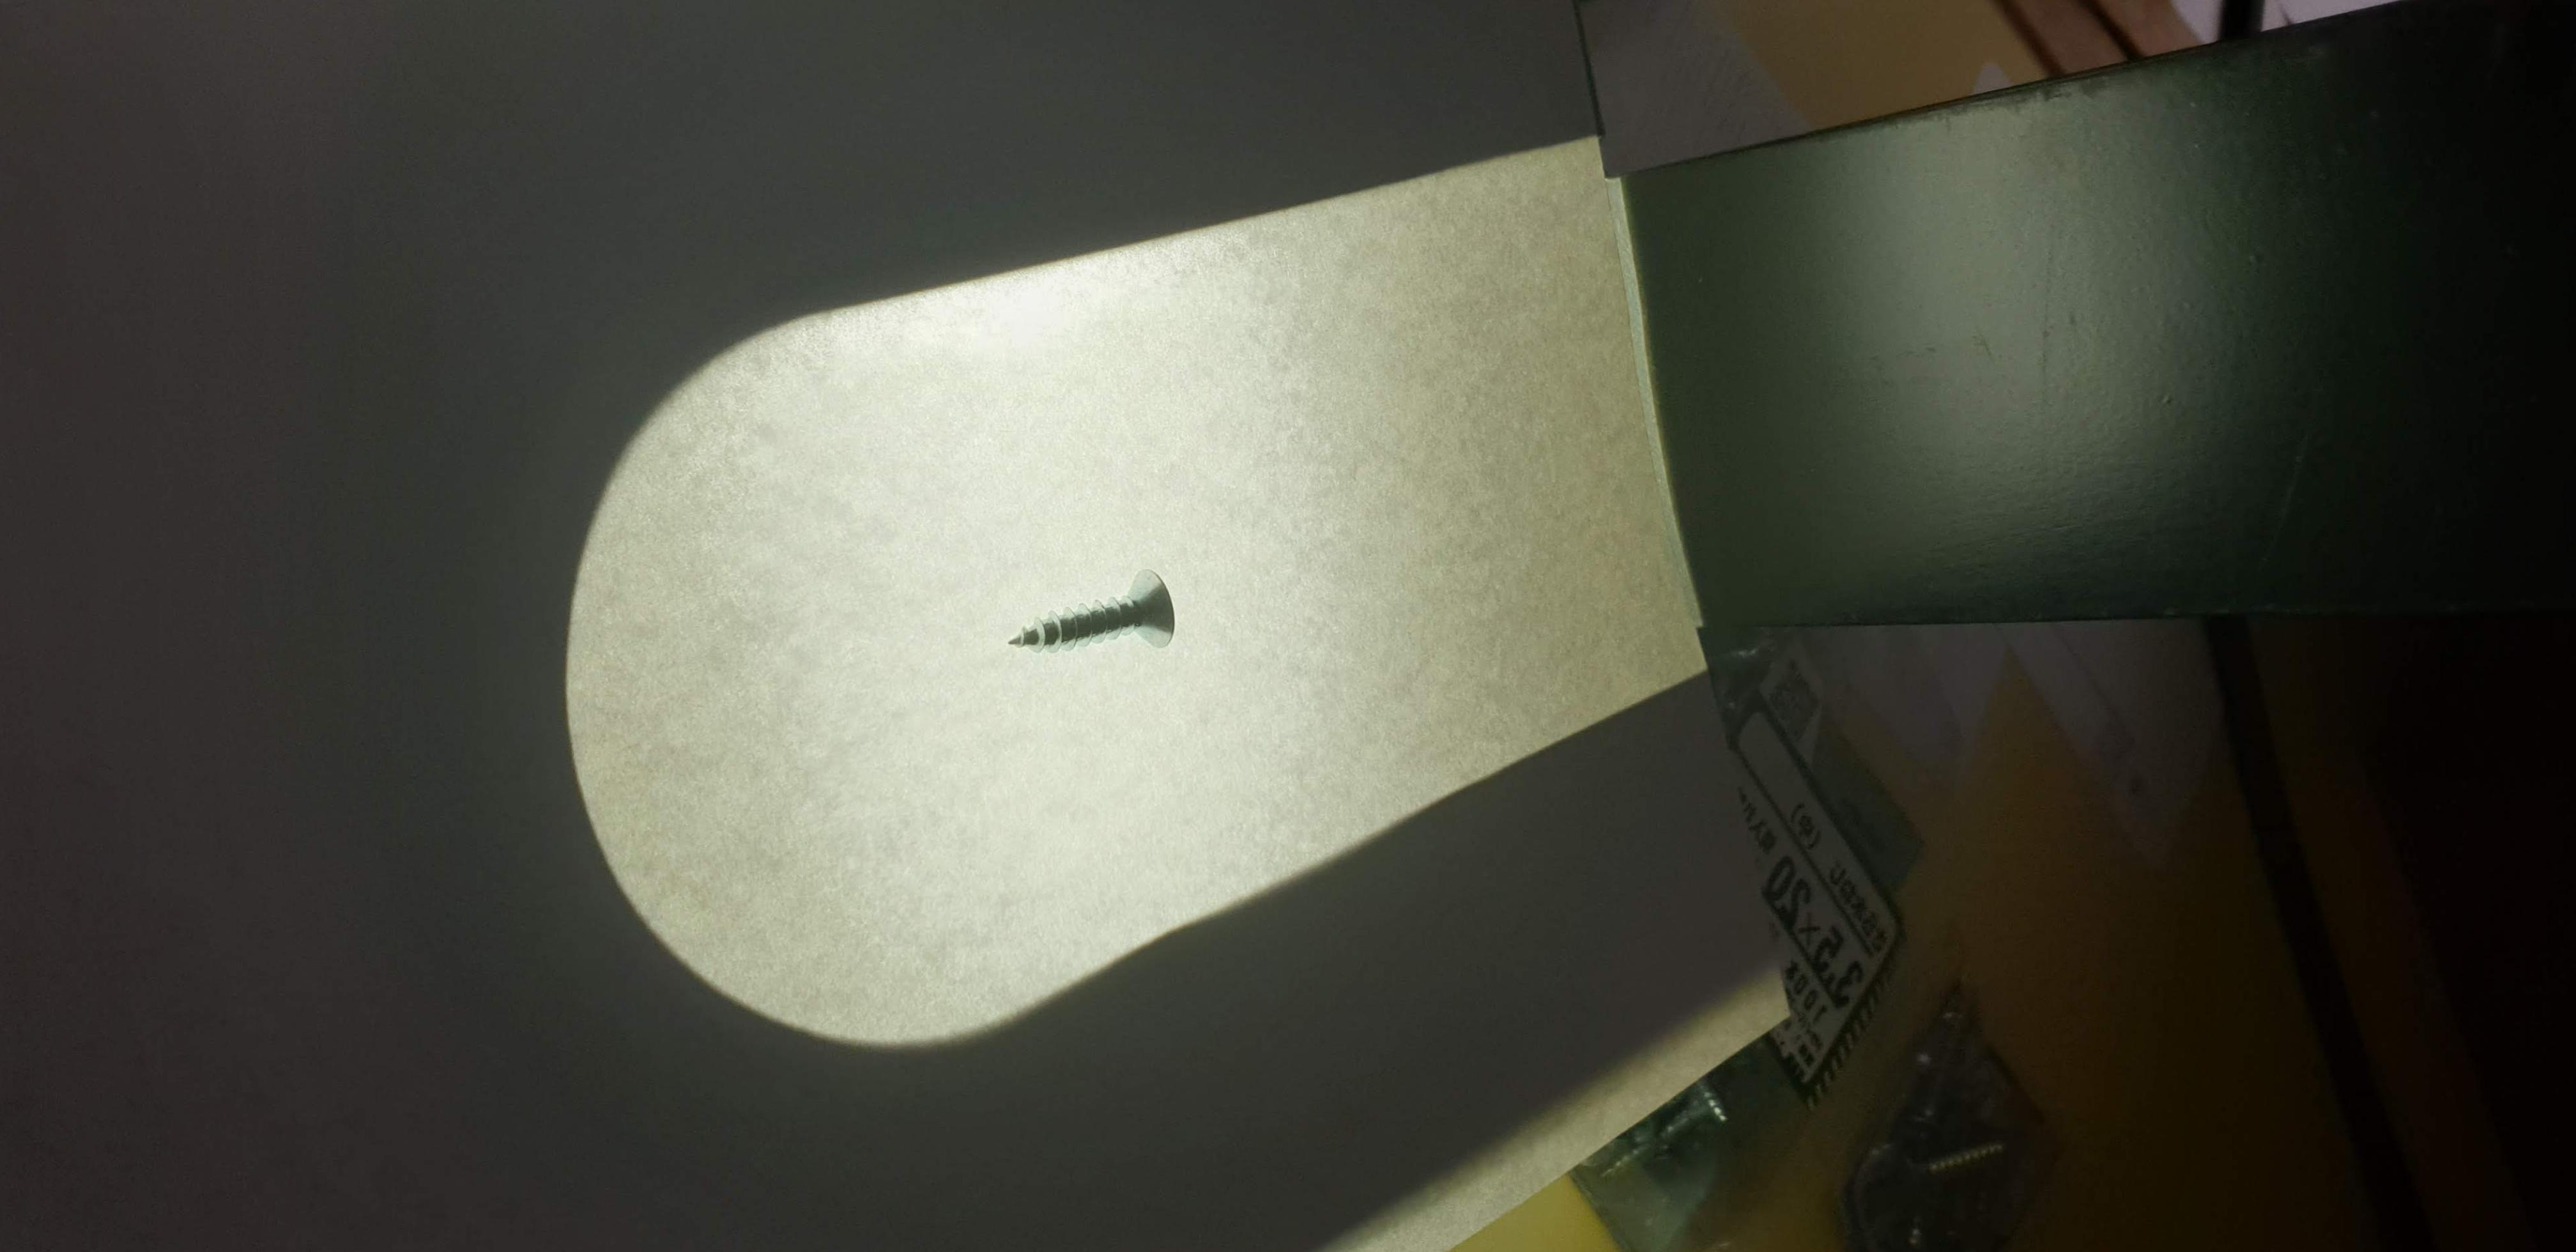S003: (989, 559, 1221, 677)
